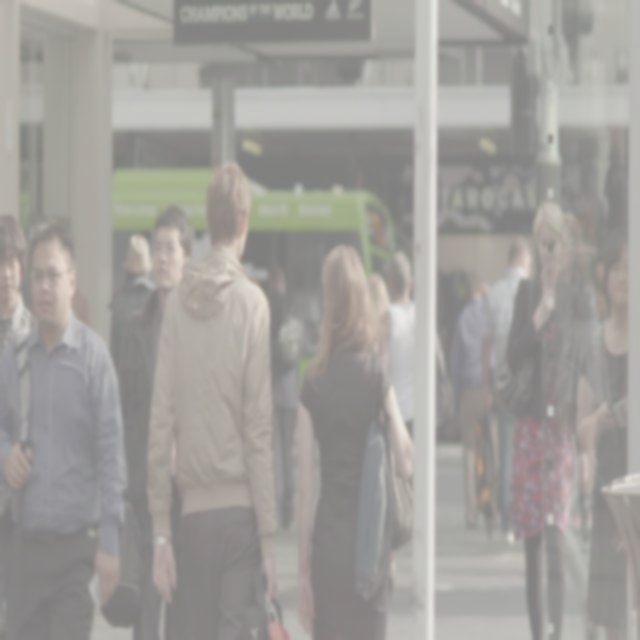pessoa: (144, 157, 280, 639), (292, 238, 418, 638), (502, 193, 596, 639), (116, 204, 197, 639), (0, 202, 74, 638), (574, 224, 630, 639), (480, 234, 534, 546), (377, 249, 450, 448), (448, 274, 501, 532), (264, 260, 306, 535), (559, 243, 604, 441), (106, 230, 158, 374), (558, 210, 600, 388), (601, 140, 626, 223), (368, 270, 391, 344)
